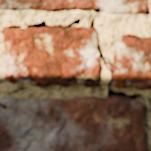brick: (0, 97, 147, 150), (4, 26, 99, 85), (113, 34, 150, 88)
broken_brick: (0, 0, 149, 14)
crack: (0, 2, 150, 148), (0, 101, 8, 109)
